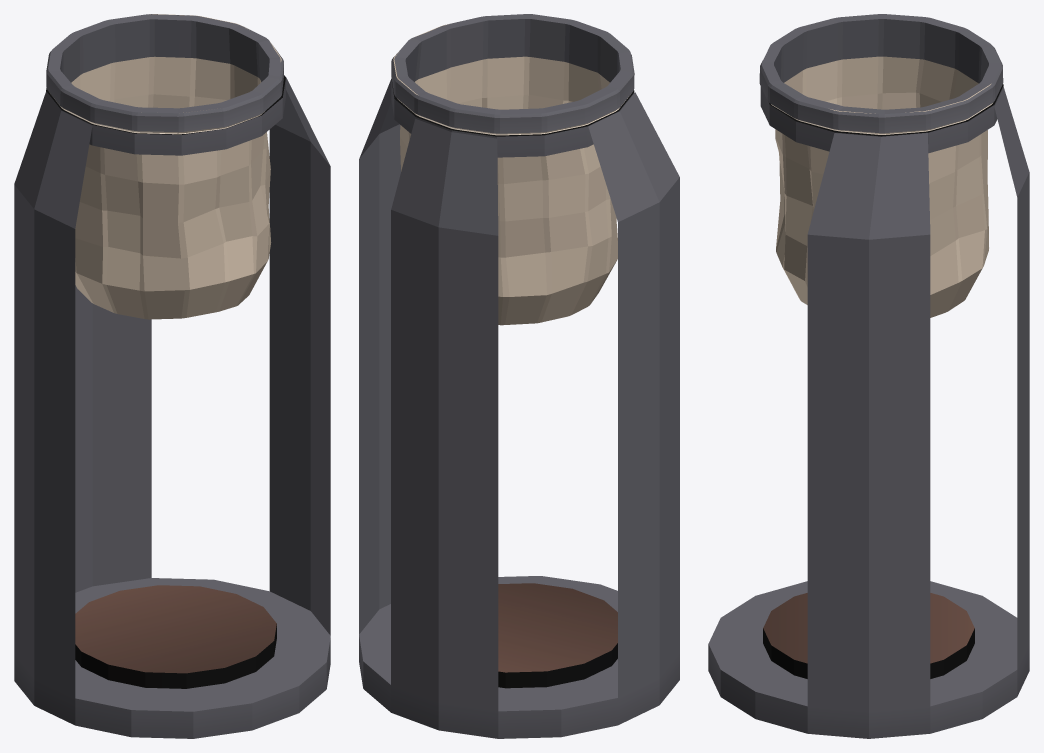
The model's file is coador_Lab_LoPo.fbx.
The picture shows the model from 3 angles, left to right: view 1: azimuth 30°, elevation 25°; view 2: azimuth 150°, elevation 25°; view 3: azimuth 270°, elevation 25°; orthographic projection.
Parts seen in each view (by area): view 1: coador_Lab_LoPo; view 2: coador_Lab_LoPo; view 3: coador_Lab_LoPo.
Boxes of the visible parts, left/top/right/bottom form: coador_Lab_LoPo: left=14, top=14, right=330, bottom=738; coador_Lab_LoPo: left=359, top=14, right=679, bottom=738; coador_Lab_LoPo: left=708, top=14, right=1029, bottom=738.
Size of the model in its own units: 23.13 by 48.31 by 23.13.
